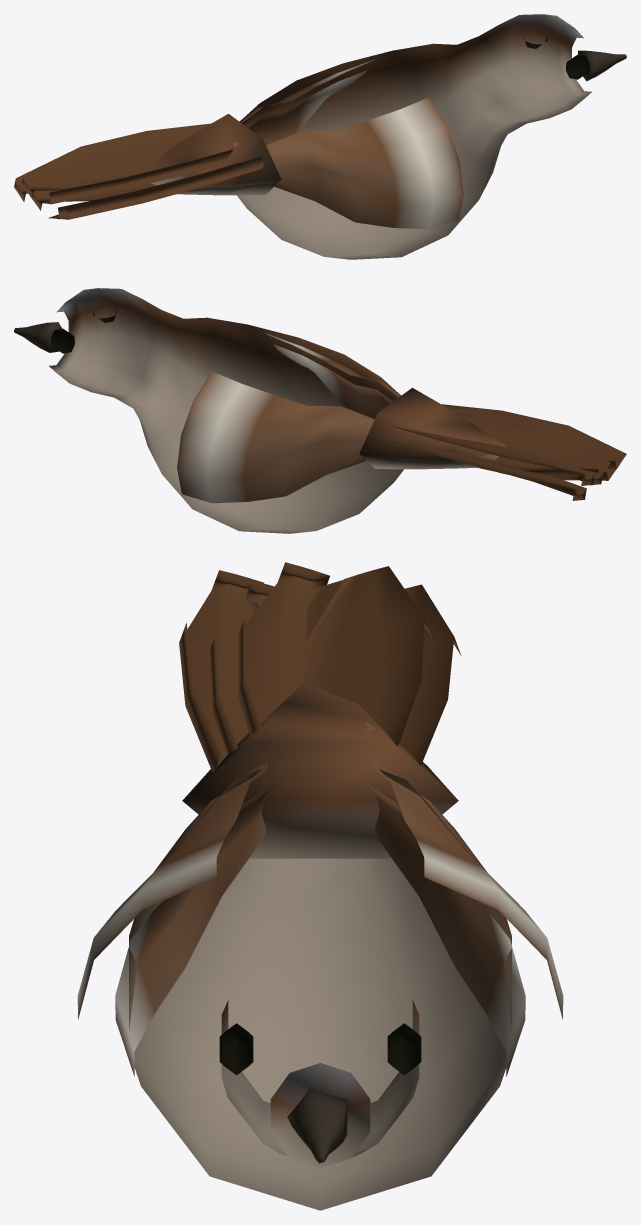
Rendered from SM_Bird_sparrow_closed_LOD1.glb.
3 renders of one model, top to bottom at view 1: azimuth 30°, elevation 25°; view 2: azimuth 150°, elevation 25°; view 3: azimuth 270°, elevation 25°, orthographic. The views are drawn at different scales.
Parts seen in each view (by area): view 1: SM_Bird_sparrow_closed_LOD1; view 2: SM_Bird_sparrow_closed_LOD1; view 3: SM_Bird_sparrow_closed_LOD1.
Boxes of the visible parts, x1,y1,x2,y2 form: SM_Bird_sparrow_closed_LOD1: (14, 14, 626, 259); SM_Bird_sparrow_closed_LOD1: (14, 288, 626, 533); SM_Bird_sparrow_closed_LOD1: (77, 562, 563, 1210).
Bounding box in the file's own units: 0.1703 × 0.0549 × 0.0611.
